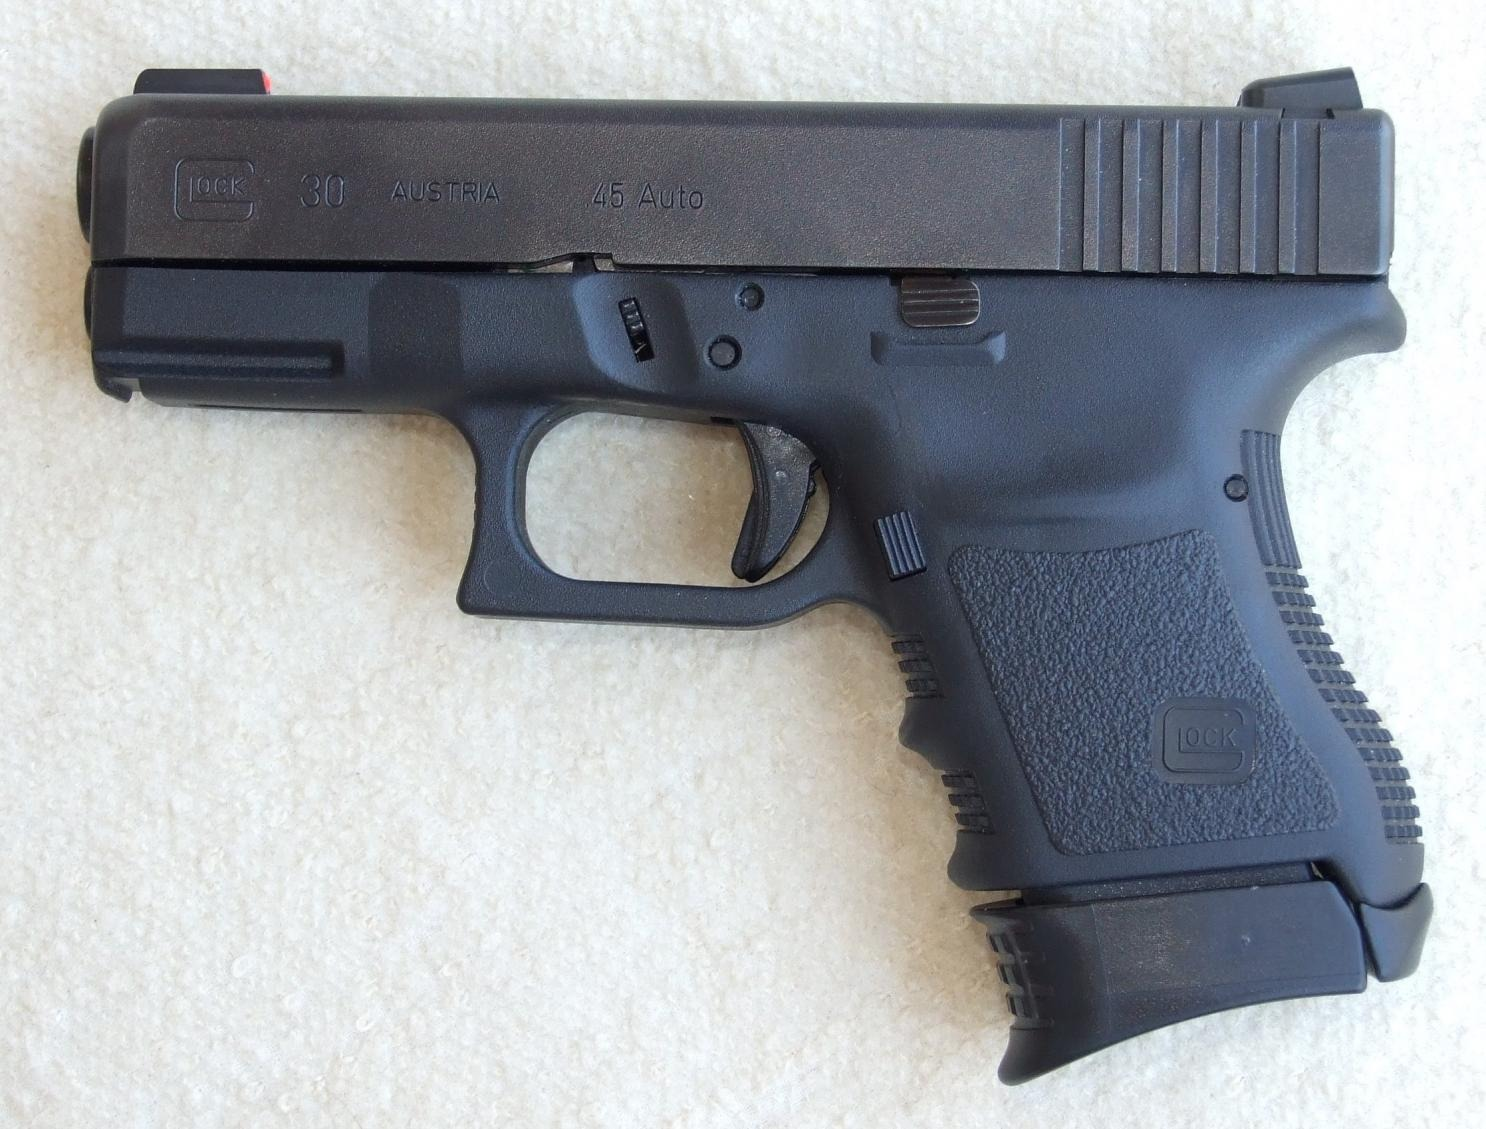gun: (62, 42, 1429, 1087)
